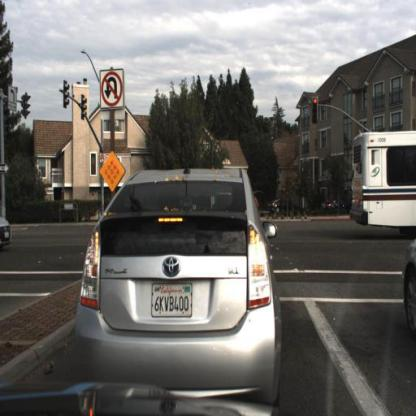car: (69, 158, 283, 398), (396, 214, 416, 352), (318, 192, 342, 216)
trafficLight-Red: (310, 91, 321, 127)
